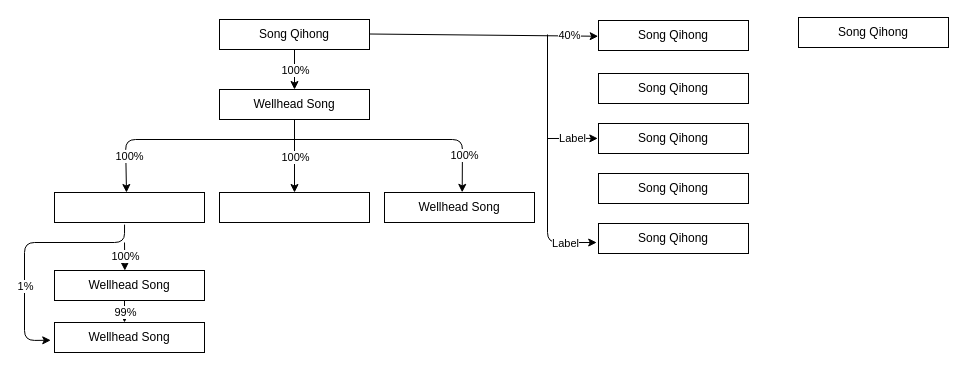
Image size: 966x370. Some labels were removed from this diagram. Each missing label, with the box of its shape:
Fullsun W.: (54, 192, 204, 222)
Golgery Wong: (218, 192, 370, 222)
